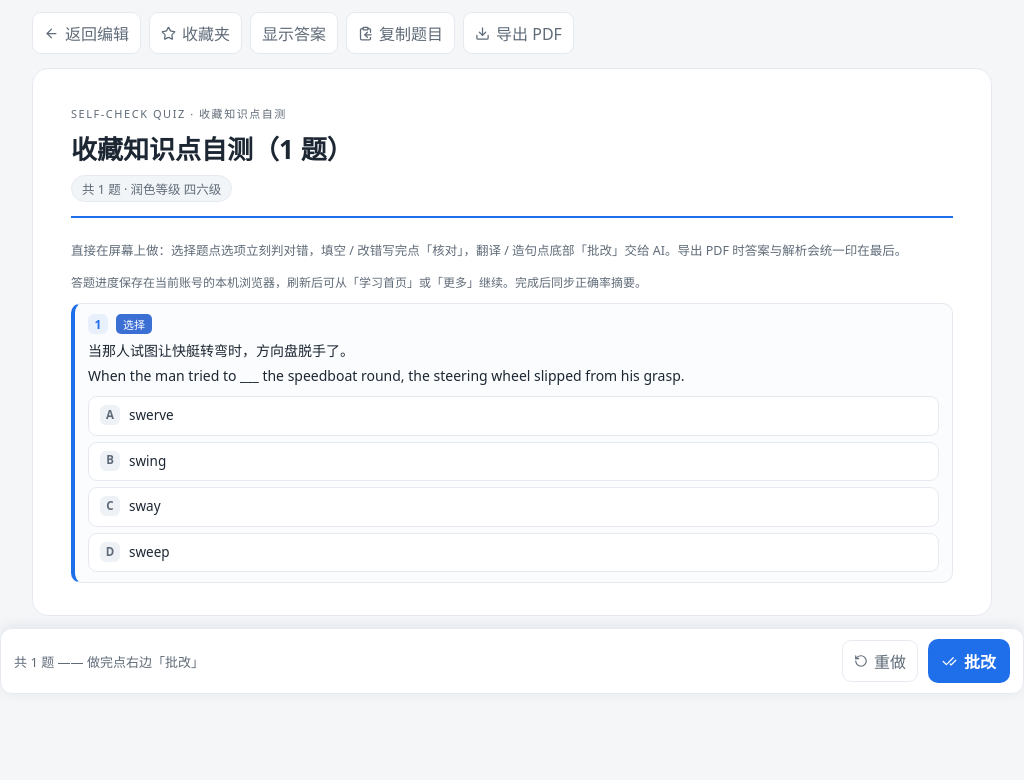
Scenario: 选择题：点选项立刻判对错 › 点对的那个 → 对，并标出标准答案
Click the button "B swing".
click(148, 461)  # box [88,442,939,481]
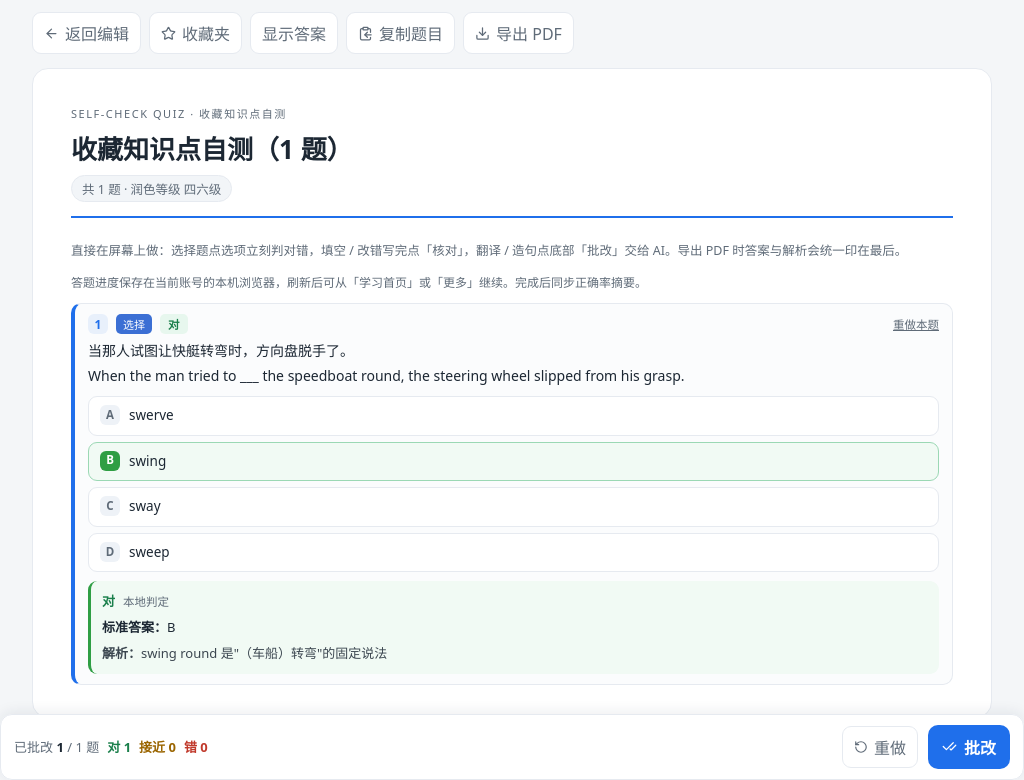
Expected: the element with class "right" that starts with "本地判定" is shown, [88,581,939,674]
Expected: the text "对" next to "本地判定" is shown, [102,592,115,610]
Expected: the element showing "已批改 1 / 1 题对 1接近 0错 0" is shown, [14,738,208,756]
